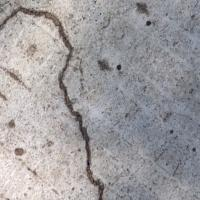crack: (1, 0, 104, 199)
